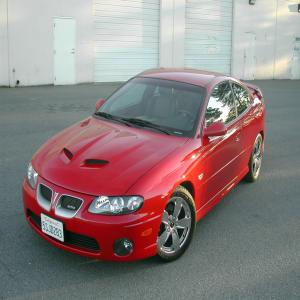Vehicle-registration-plate: (42, 212, 65, 243)
